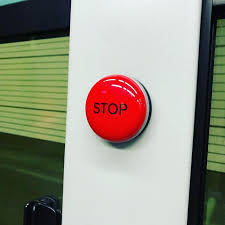bell: (82, 73, 156, 147)
